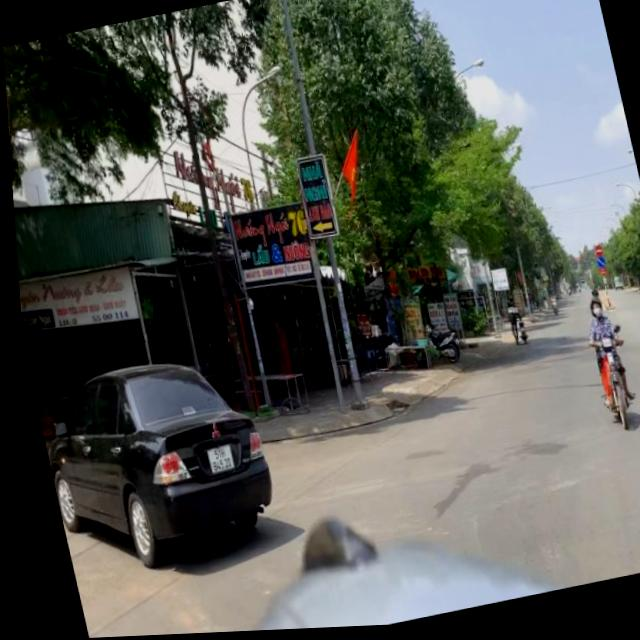Cam di nguoc chieu: (591, 250, 601, 262)
Vong chuong ngai vat sang phai: (593, 262, 602, 274)
